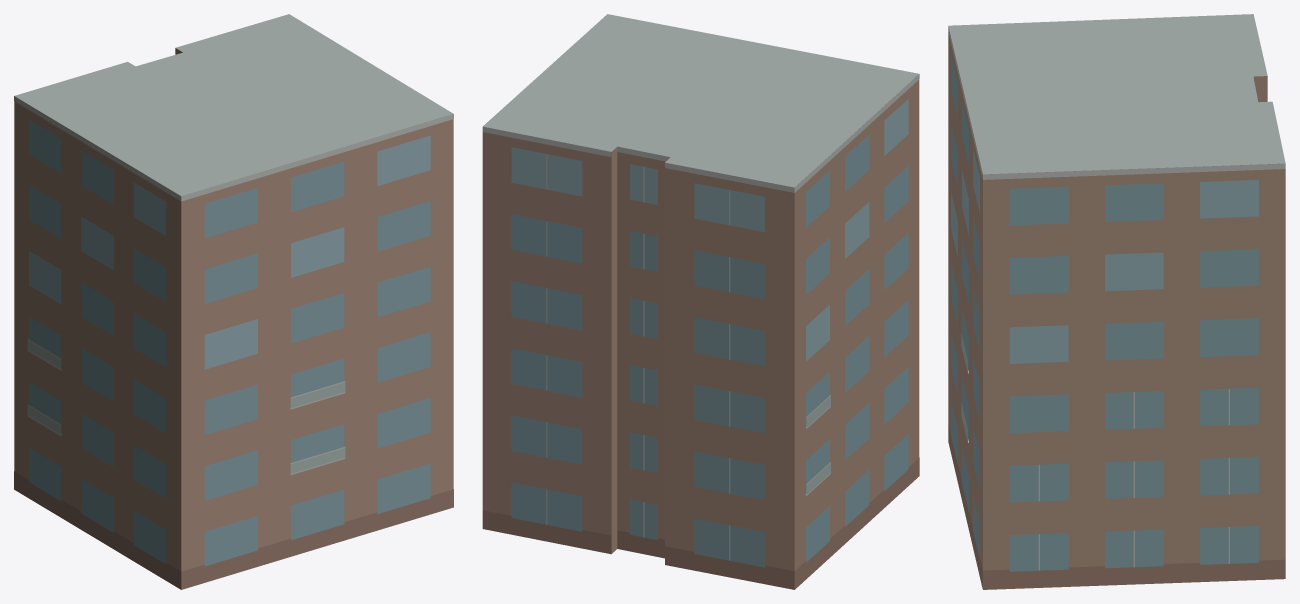
Rendered from survey-upis-32630007.glb.
3 renders of one model, left to right at view 1: azimuth 30°, elevation 25°; view 2: azimuth 150°, elevation 25°; view 3: azimuth 270°, elevation 25°, orthographic. The views are drawn at different scales.
Parts seen in each view (by area): view 1: survey-upis-32630007.tmp; view 2: survey-upis-32630007.tmp; view 3: survey-upis-32630007.tmp.
Boxes of the visible parts, x1=… form: survey-upis-32630007.tmp: x1=14, y1=14, x2=453, y2=589; survey-upis-32630007.tmp: x1=482, y1=14, x2=919, y2=589; survey-upis-32630007.tmp: x1=948, y1=14, x2=1285, y2=589.
Size of the model in its own units: 15.16 by 18.3 by 13.48.
